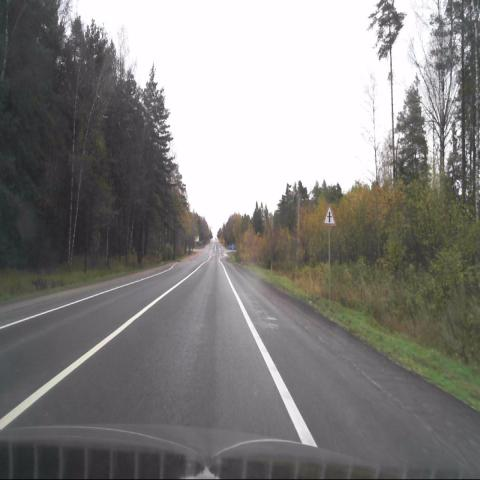2_3: (324, 203, 335, 225)
